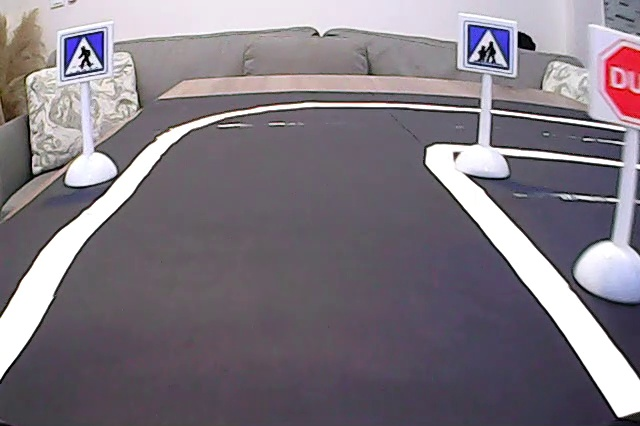pedestrian crossing: (59, 30, 111, 78)
school crossing: (463, 18, 514, 76)
stop sign: (596, 36, 640, 125)
